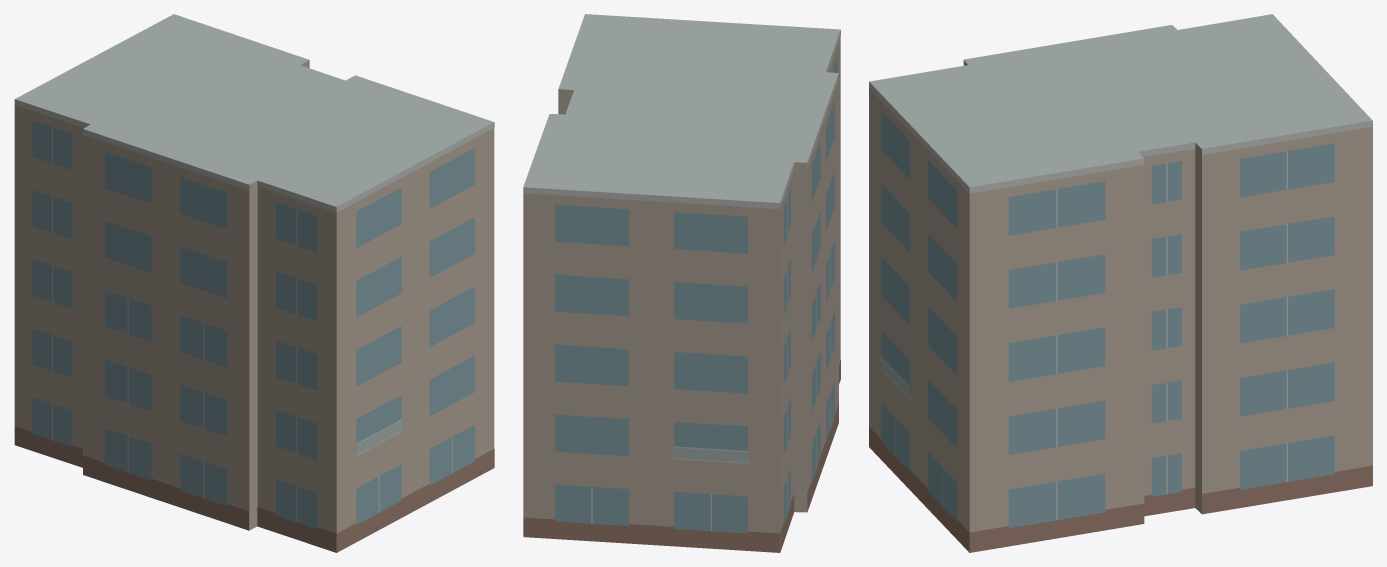
The model's file is survey-upis-32885400.glb.
The picture shows the model from 3 angles, left to right: view 1: azimuth 30°, elevation 25°; view 2: azimuth 150°, elevation 25°; view 3: azimuth 270°, elevation 25°; orthographic projection. The views are drawn at different scales.
Parts seen in each view (by area): view 1: survey-upis-32885400.tmp; view 2: survey-upis-32885400.tmp; view 3: survey-upis-32885400.tmp.
Part boxes in pixels (left/top/right/bottom): survey-upis-32885400.tmp: left=14, top=14, right=494, bottom=552; survey-upis-32885400.tmp: left=523, top=14, right=840, bottom=552; survey-upis-32885400.tmp: left=869, top=14, right=1372, bottom=552.
Bounding box in the file's own units: 14.56 × 14.3 × 17.87.
